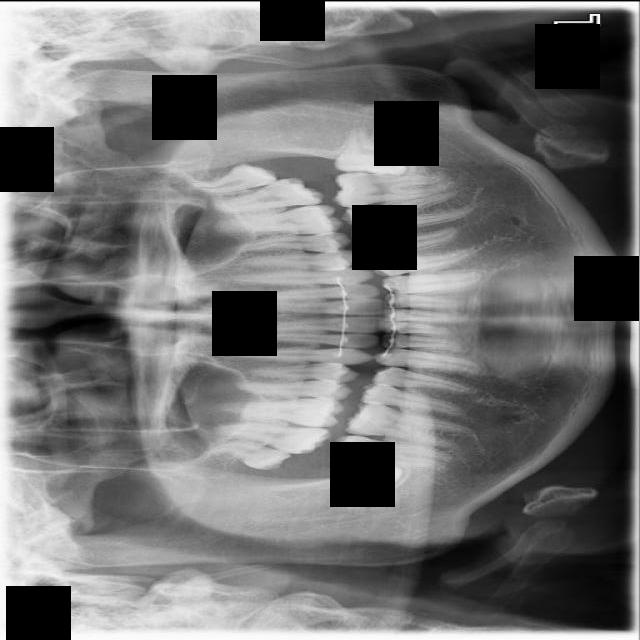3M ESPE Implant: (208, 430, 291, 477)
73: (554, 20, 584, 38)
BioHorizons Implant: (208, 173, 325, 215)
BioLife Implant: (188, 158, 278, 199)
Biomet 3i Implant: (332, 122, 410, 179)
Blue Sky Bio Implant: (332, 170, 453, 210)
Caries: (208, 418, 332, 456)
Implant: (331, 432, 450, 480)
Keystone Dental Implant: (333, 459, 407, 516)
